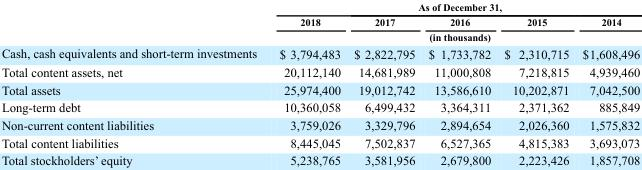table: (0, 0, 639, 167)
table column: (0, 0, 267, 167), (267, 0, 346, 167), (496, 0, 575, 167), (346, 0, 421, 167), (421, 0, 496, 167), (575, 0, 639, 167)
table column header: (0, 0, 639, 44)
table row: (0, 44, 639, 62), (0, 62, 639, 80), (0, 80, 639, 98), (0, 115, 639, 133), (0, 133, 639, 151), (0, 98, 639, 115), (0, 13, 639, 29), (0, 151, 639, 167), (0, 29, 639, 44), (0, 0, 639, 13)
table spanning cell: (267, 29, 639, 44), (267, 0, 639, 13)
